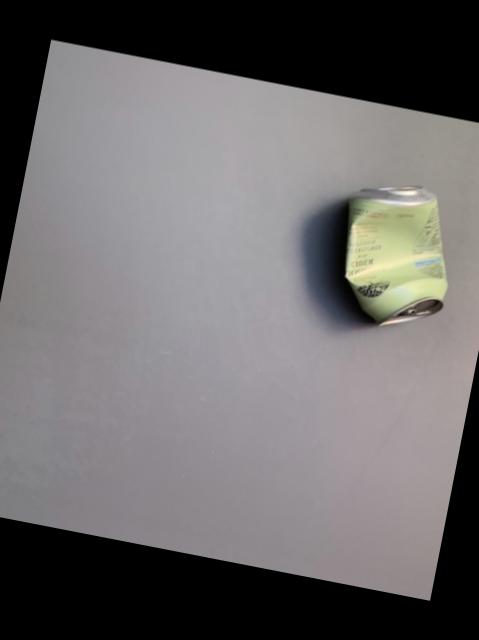metal: (345, 187, 446, 325)
